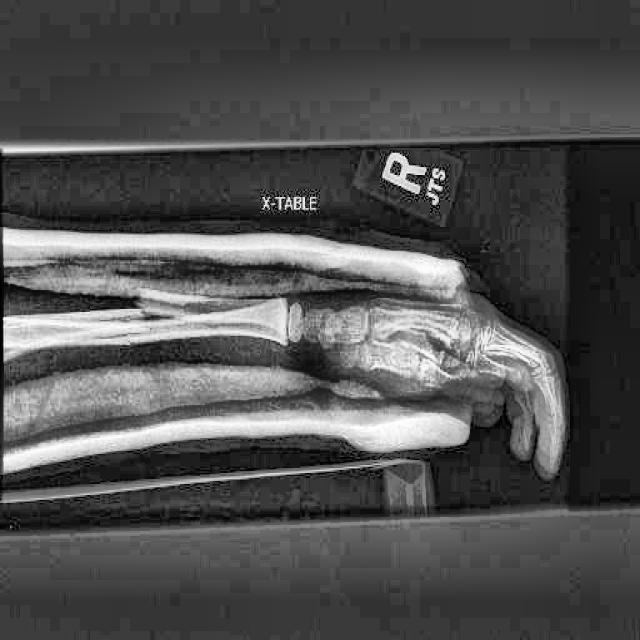forearm fracture: (105, 277, 184, 333)
